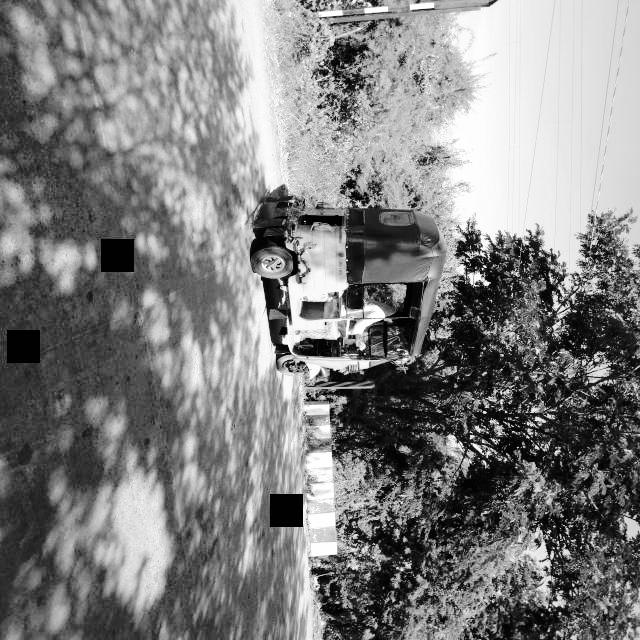Auto-Rickshaw: (244, 161, 445, 406)
